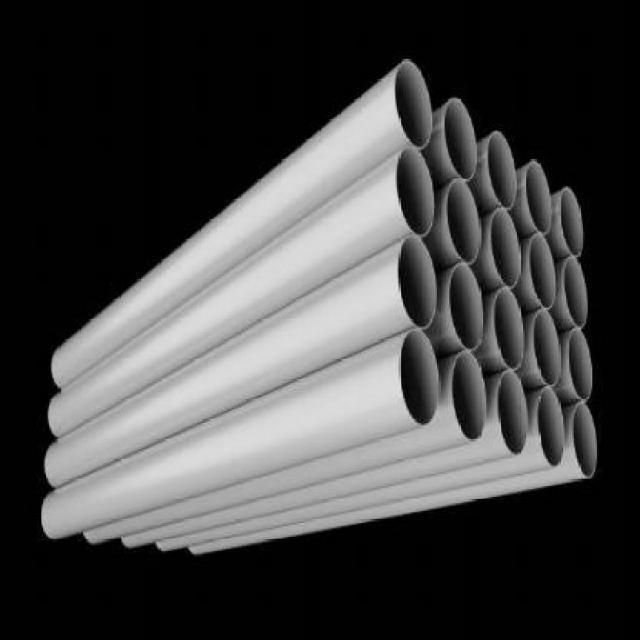pipe: (400, 328, 440, 426), (397, 235, 437, 328), (397, 146, 435, 237), (394, 59, 432, 148), (452, 349, 488, 440), (450, 263, 485, 351), (446, 179, 480, 265), (445, 97, 479, 182), (497, 370, 528, 456), (494, 288, 525, 370), (488, 131, 519, 208), (491, 208, 520, 288), (537, 386, 565, 466), (532, 308, 560, 385), (529, 232, 557, 308), (525, 162, 553, 236), (572, 402, 597, 479), (568, 328, 593, 402), (563, 256, 588, 327), (560, 188, 585, 256)
